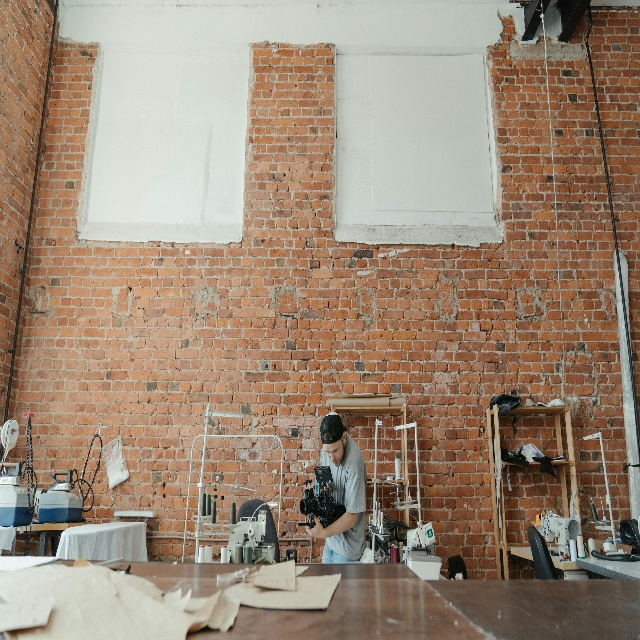Sin_guantes: (304, 514, 324, 539)
